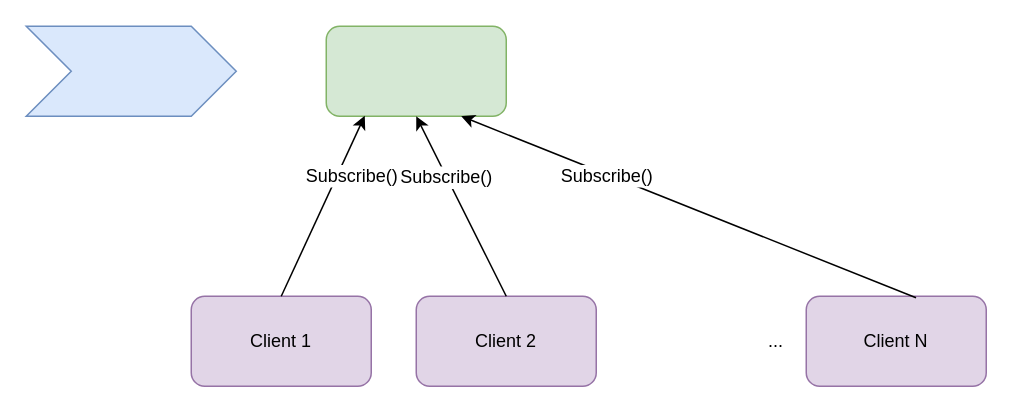
The diagram is 1013 pixels wide and 413 high, and some of its shapes have lost their labels. The shapes that lost their labels are listed below. From the top down, each one's box as (x1, y1, x2, y2) in pixels, then its label:
(25, 25, 236, 116): EventHub
(325, 25, 506, 116): EventHub Proxy
